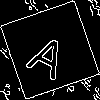A: (25, 25, 76, 82)
